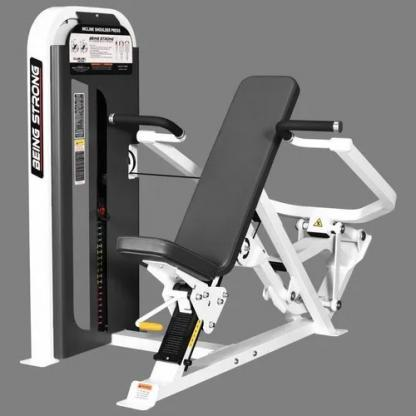shoulder press machine: (27, 6, 398, 408)
